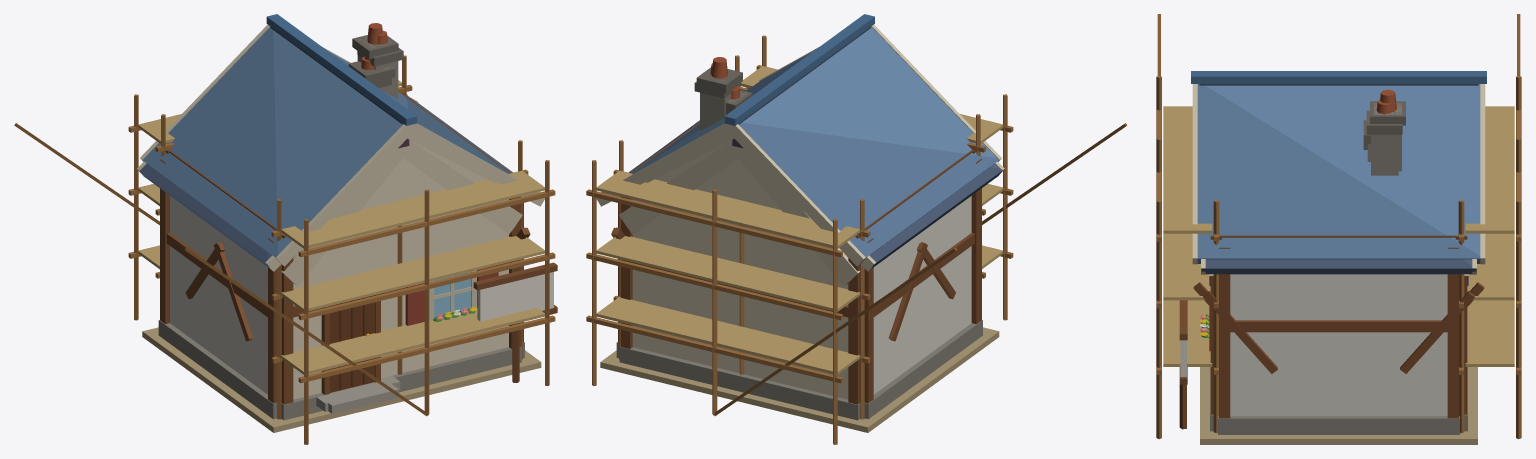
The model's file is cottages.glb.
3 renders of one model, left to right at view 1: azimuth 30°, elevation 25°; view 2: azimuth 150°, elevation 25°; view 3: azimuth 270°, elevation 25°, orthographic. The views are drawn at different scales.
Parts seen in each view (by area): view 1: town-cottage_4, town-construction, town-cottage_2, town-cottage_1, town-cottage_3; view 2: town-cottage_4, town-construction, town-cottage_2, town-cottage_1, town-cottage_3; view 3: town-cottage_4, town-cottage_2, town-construction.
Boxes of the visible parts, x1=… form: town-cottage_4: x1=140, y1=14, x2=540, y2=420; town-construction: x1=14, y1=55, x2=557, y2=444; town-cottage_2: x1=137, y1=26, x2=544, y2=419; town-cottage_1: x1=281, y1=56, x2=522, y2=279; town-cottage_3: x1=290, y1=57, x2=515, y2=397; town-cottage_4: x1=600, y1=14, x2=1001, y2=420; town-construction: x1=586, y1=35, x2=1127, y2=444; town-cottage_2: x1=596, y1=27, x2=1004, y2=419; town-cottage_1: x1=619, y1=85, x2=860, y2=279; town-cottage_3: x1=626, y1=86, x2=850, y2=285; town-cottage_4: x1=1191, y1=71, x2=1486, y2=431; town-cottage_2: x1=1199, y1=84, x2=1478, y2=434; town-construction: x1=1156, y1=14, x2=1521, y2=444.
Size of the model in its own units: 5.71 by 4.24 by 4.47.
